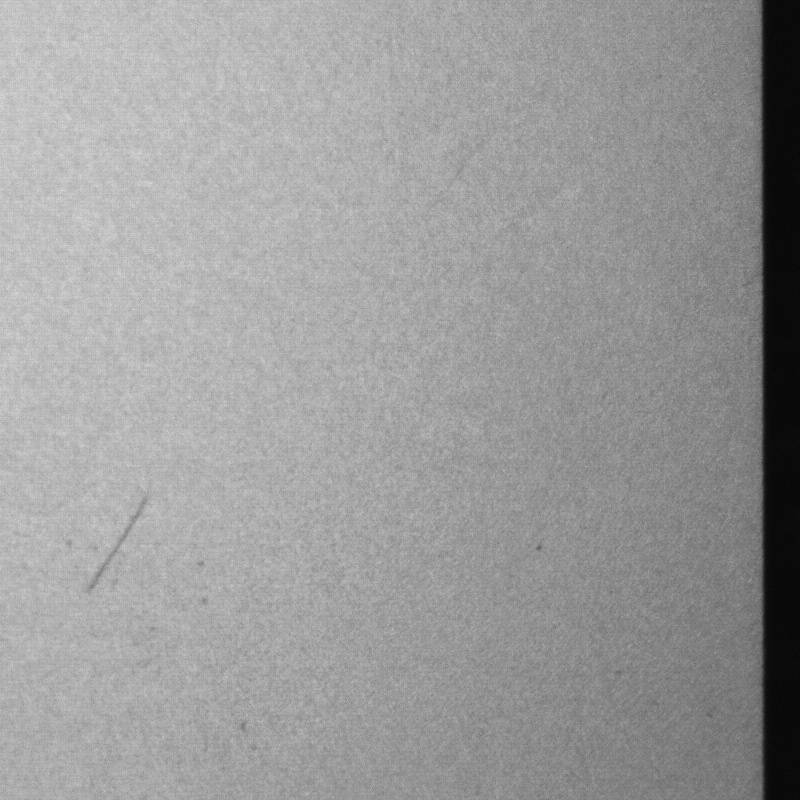defect: (78, 497, 150, 602)
